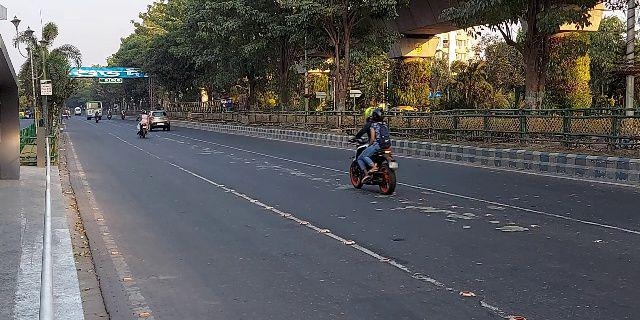Car: (148, 108, 171, 134)
Motorbike: (344, 104, 404, 197), (136, 112, 152, 142)
